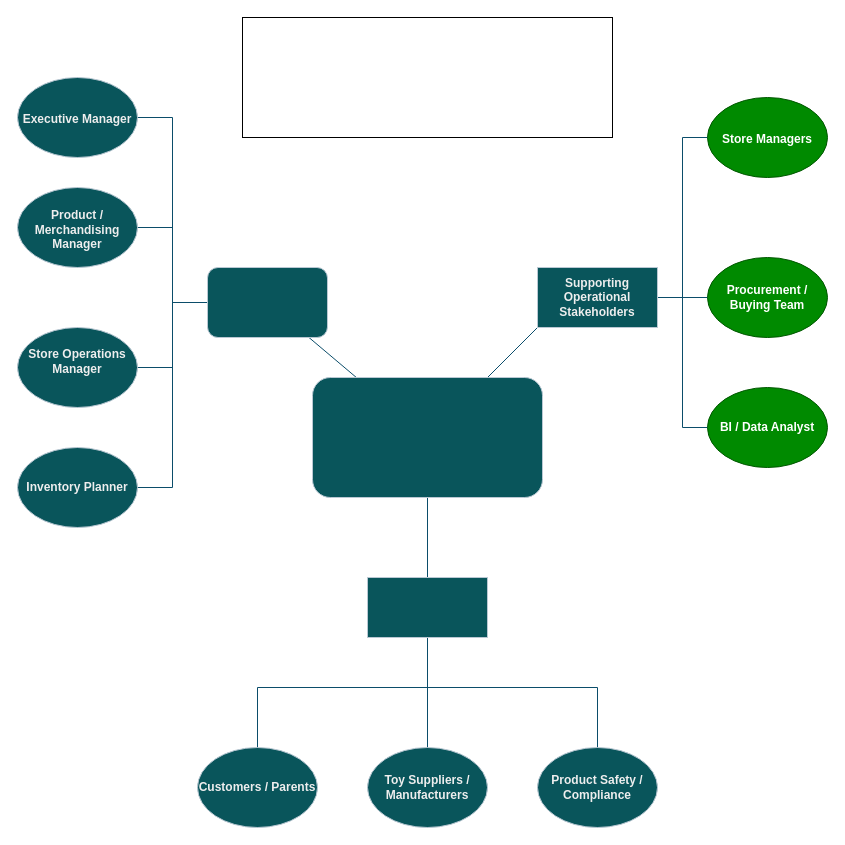
This 845x845 diagram has some shape labels left out. The shapes that lost their labels are listed below. From the top down, each one's centre as x and y in pixels, then its label:
(427,77): STAKEHOLDER MAP
(267,302): Core Dashboard Users
(427,437): MAVEN TOYS RETAIL OPERATION DECISION-SUPPORT SOLUTION
(427,607): External & Governance Stakeholders
